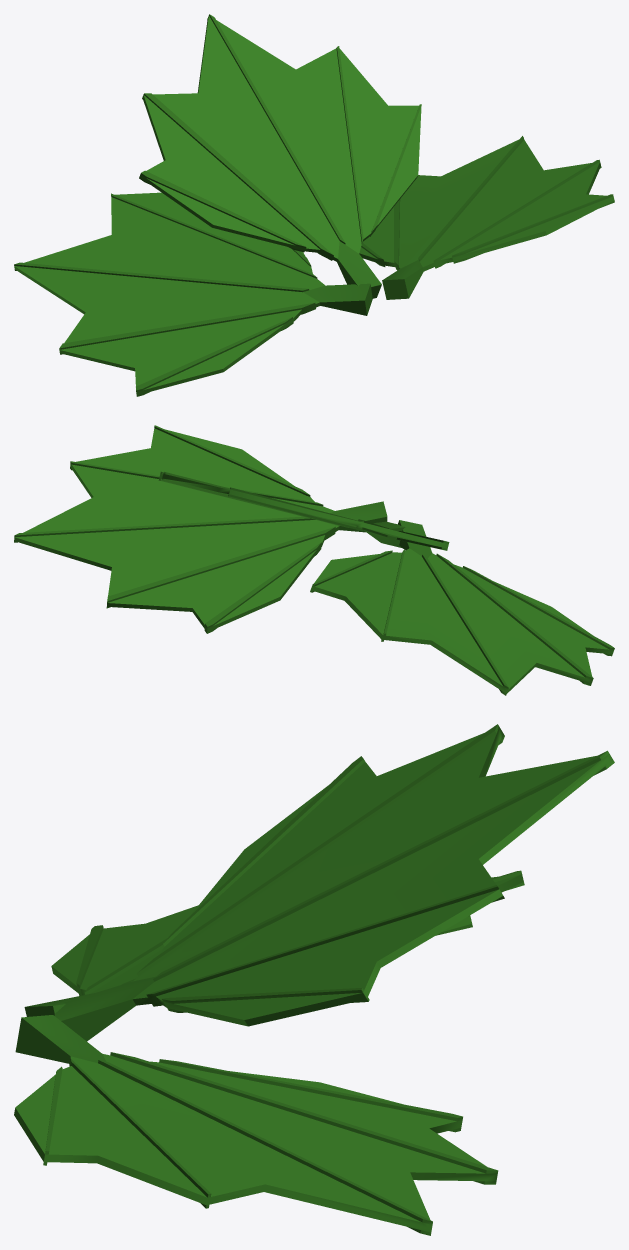
File: Gillyweed.fbx
3 views of the same model, one above another, from view 1: azimuth 30°, elevation 25°; view 2: azimuth 150°, elevation 25°; view 3: azimuth 270°, elevation 25° (orthographic). The views are drawn at different scales.
Parts seen in each view (by area): view 1: pCube4; view 2: pCube4; view 3: pCube4.
Part boxes in pixels (x1,y1,x2,y2): pCube4: [14, 14, 614, 396]; pCube4: [14, 425, 614, 695]; pCube4: [14, 724, 614, 1235].
Bounding box in the file's own units: 11.79 × 4.7 × 6.83.
